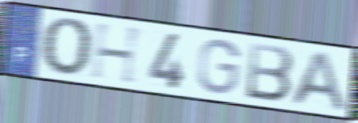4: (148, 29, 189, 91)
A: (286, 49, 350, 115)
B: (244, 40, 296, 105)
G: (195, 37, 243, 96)
H: (89, 21, 148, 87)
O: (40, 16, 95, 80)
